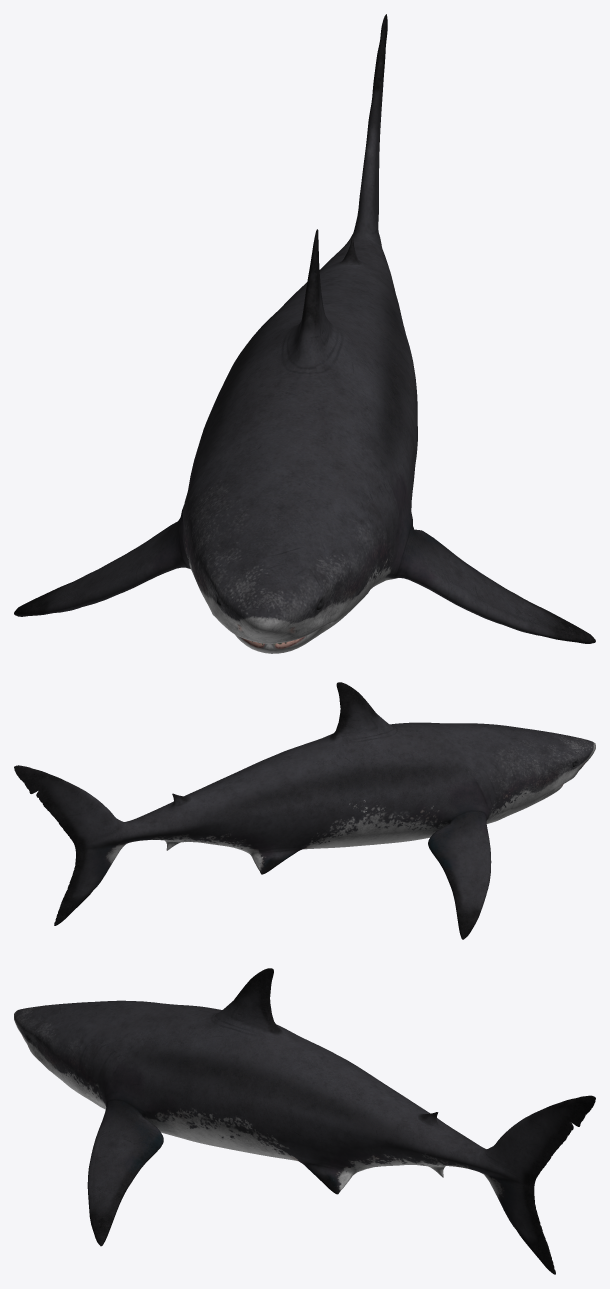
File: shark_806607b6.glb
The picture shows the model from 3 angles, top to bottom: view 1: azimuth 30°, elevation 25°; view 2: azimuth 150°, elevation 25°; view 3: azimuth 270°, elevation 25°; orthographic projection. The views are drawn at different scales.
Parts seen in each view (by area): view 1: node_id46_1; view 2: node_id46_1; view 3: node_id46_1.
Boxes of the visible parts, box(x1,y1,x2,y2) form: node_id46_1: box(14, 14, 595, 653); node_id46_1: box(14, 682, 595, 939); node_id46_1: box(14, 968, 595, 1274).
Bounding box in the file's own units: 0.5858 × 0.3407 × 0.7778.
1 material, 1 textured.
